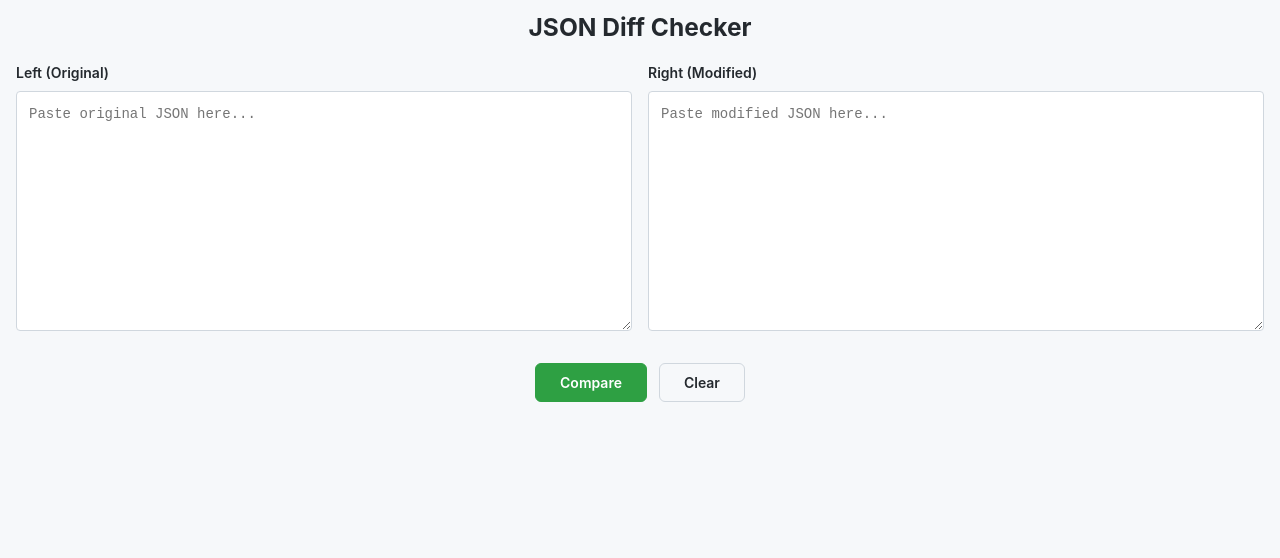
it: App — Integration Tests › T2-03 (AC-1): valid JSON → diff rows rendered, panels updated with formatted JSON
The image size is (1280, 558).
Click the text box named "Left JSON input". click: [324, 211]
box: 16,91 -> 632,331
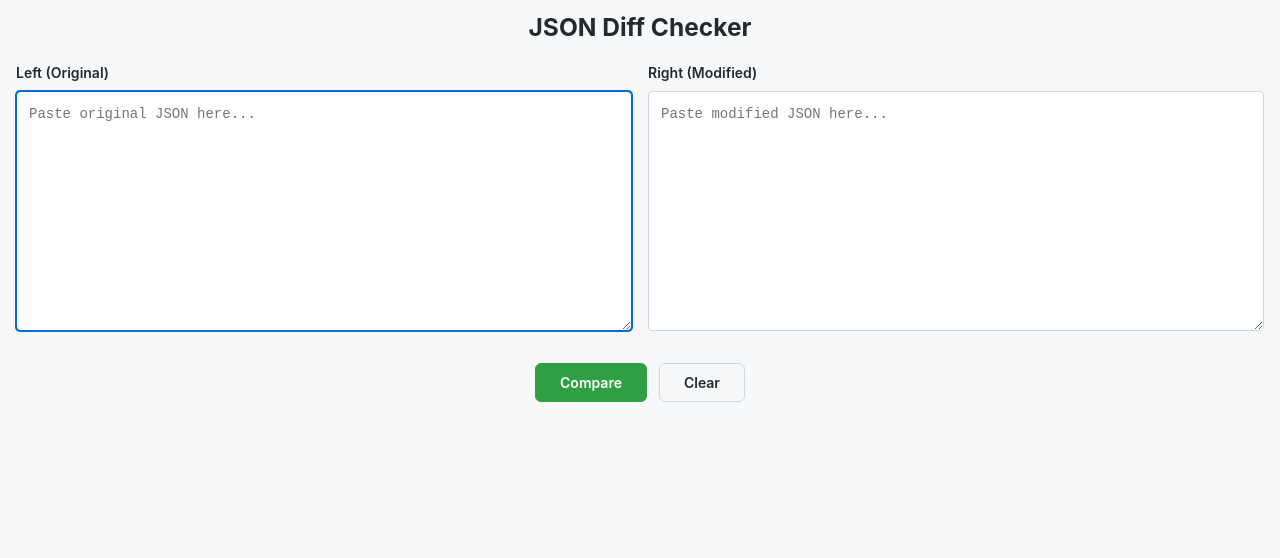
Type keys "{\"a\":1}"
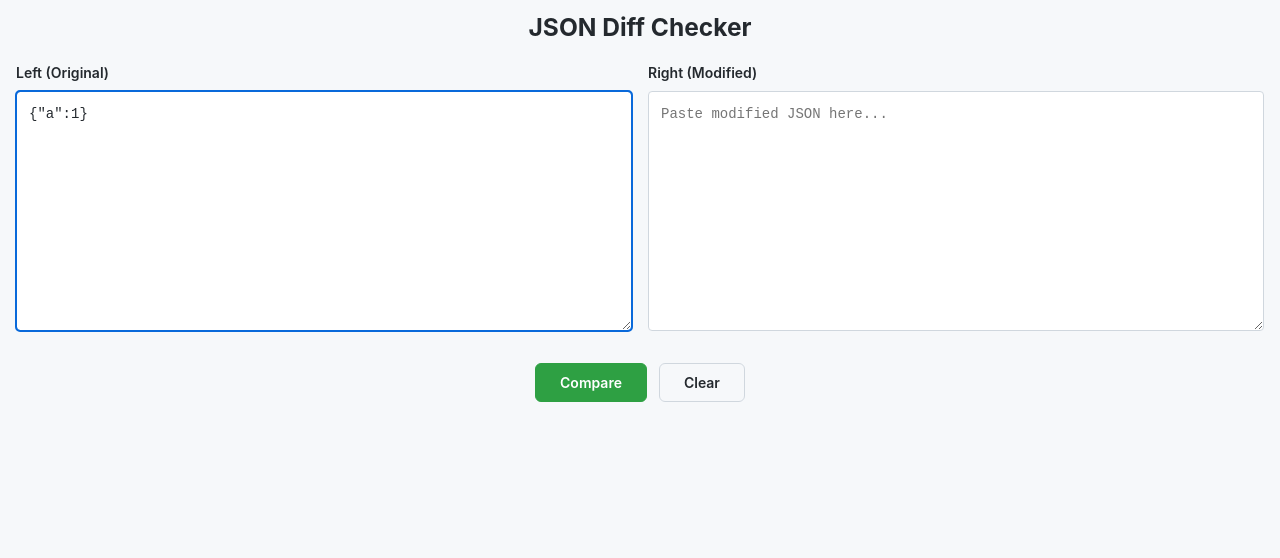
Click the text box named "Right JSON input". click: [956, 211]
box: 648,91 -> 1264,331
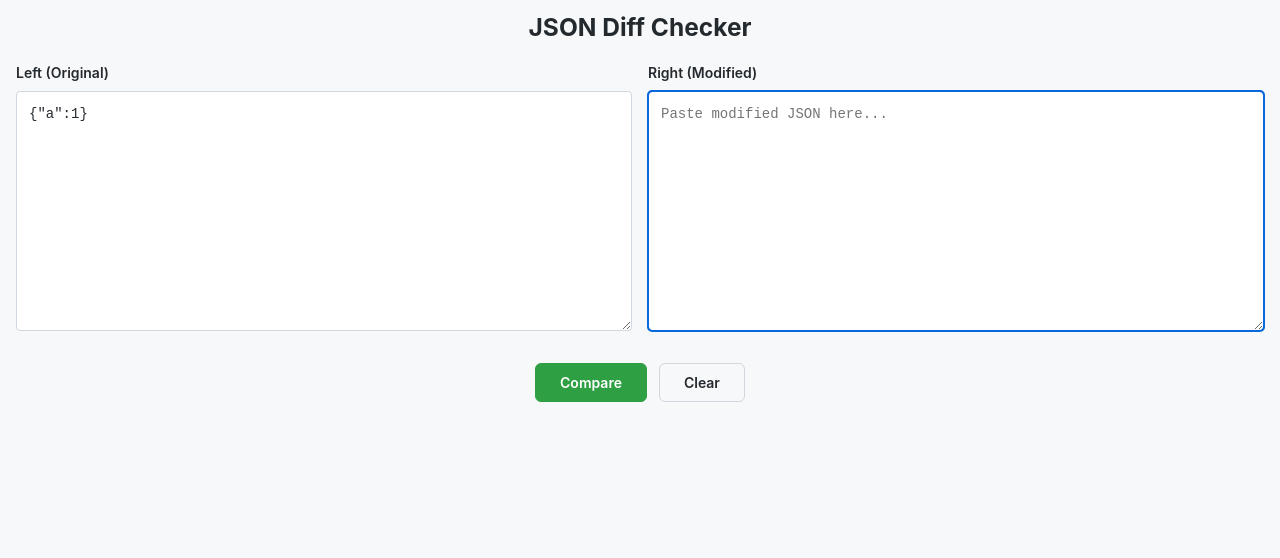
Type keys "{\"a\":2}"
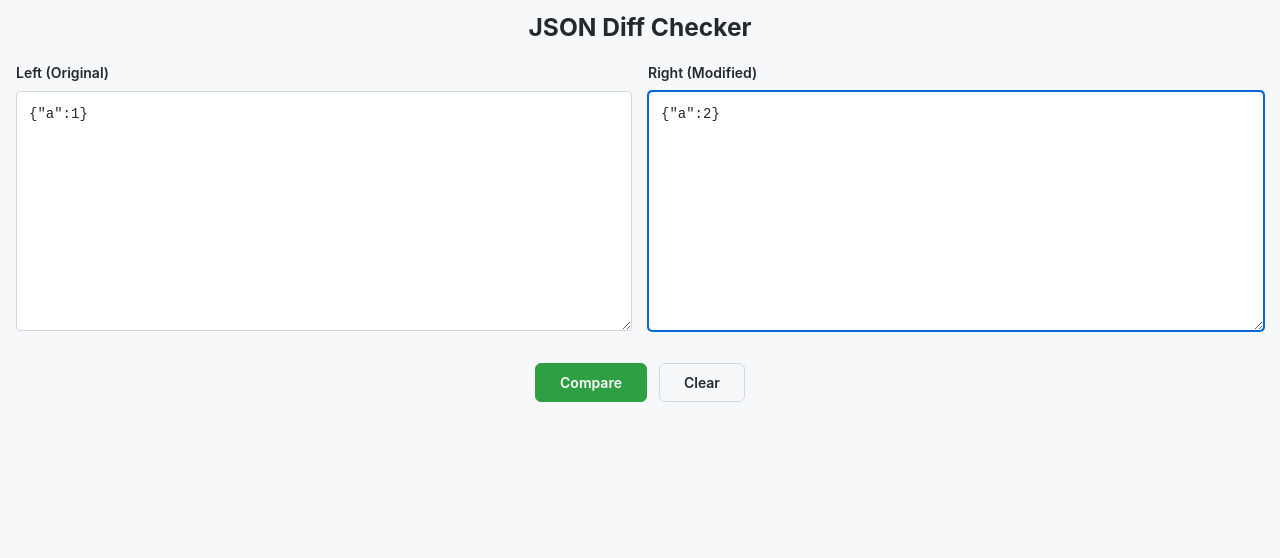
Click the button "Compare". click: [591, 382]
box: 535,363 -> 647,402
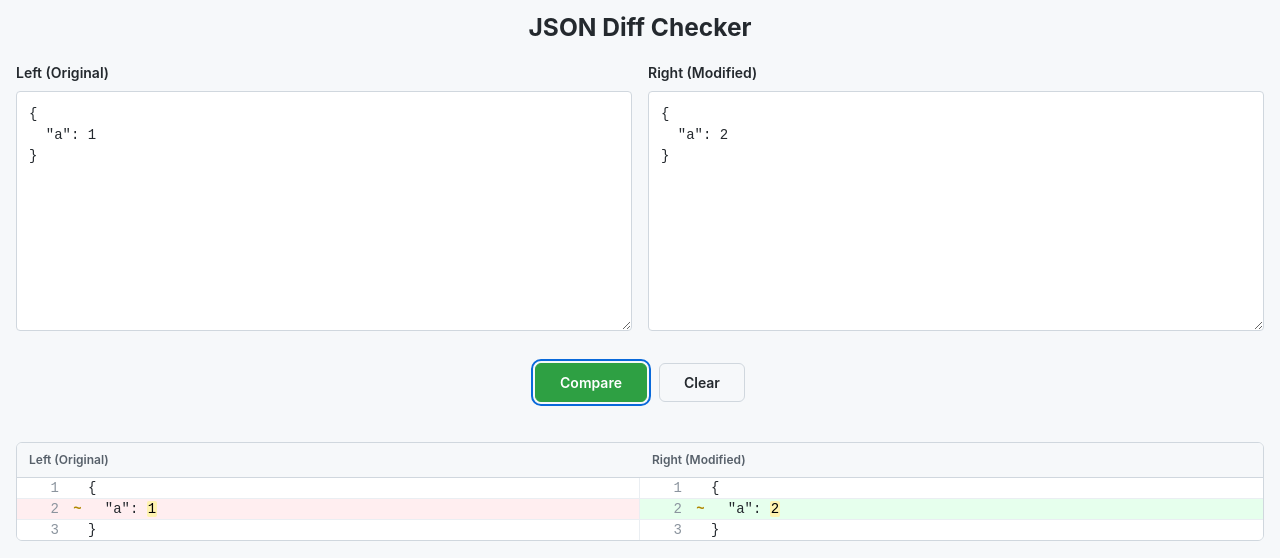
Result: the element named "Diff output" is shown at 16,442 -> 1264,541
